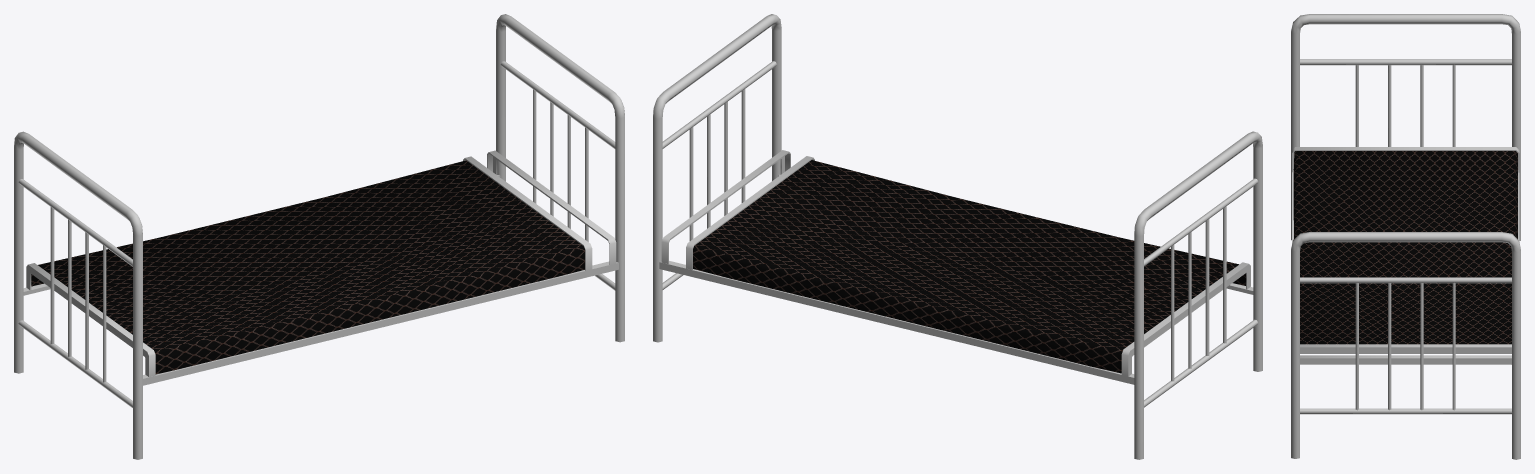
Rendered from bed_setka.FBX.
The picture shows the model from 3 angles, left to right: view 1: azimuth 30°, elevation 25°; view 2: azimuth 150°, elevation 25°; view 3: azimuth 270°, elevation 25°; orthographic projection. The views are drawn at different scales.
Parts seen in each view (by area): view 1: setka, bed; view 2: setka, bed; view 3: setka, bed.
Boxes of the visible parts, bbox=[...] form: setka: bbox=[31, 160, 584, 374]; bed: bbox=[14, 14, 624, 459]; setka: bbox=[693, 160, 1245, 373]; bed: bbox=[653, 14, 1262, 459]; setka: bbox=[1293, 151, 1517, 344]; bed: bbox=[1291, 14, 1520, 459].
Size of the model in its own units: 2.01 by 0.9492 by 0.8795.
